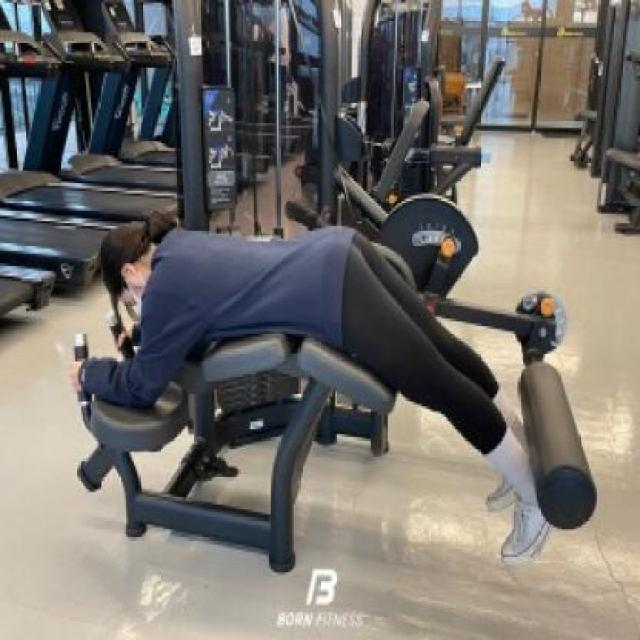reg curl machine: (62, 0, 600, 580)
